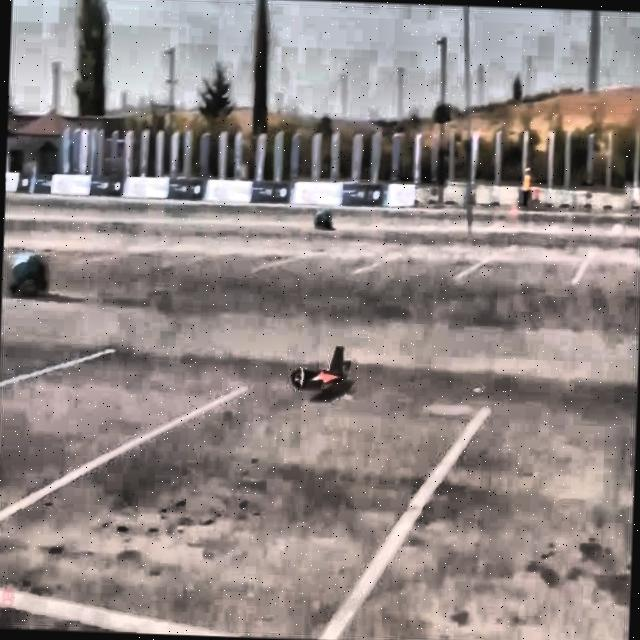iha: (306, 368, 336, 372)
